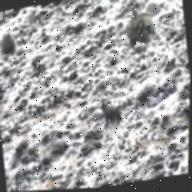boar: (91, 83, 127, 131)
